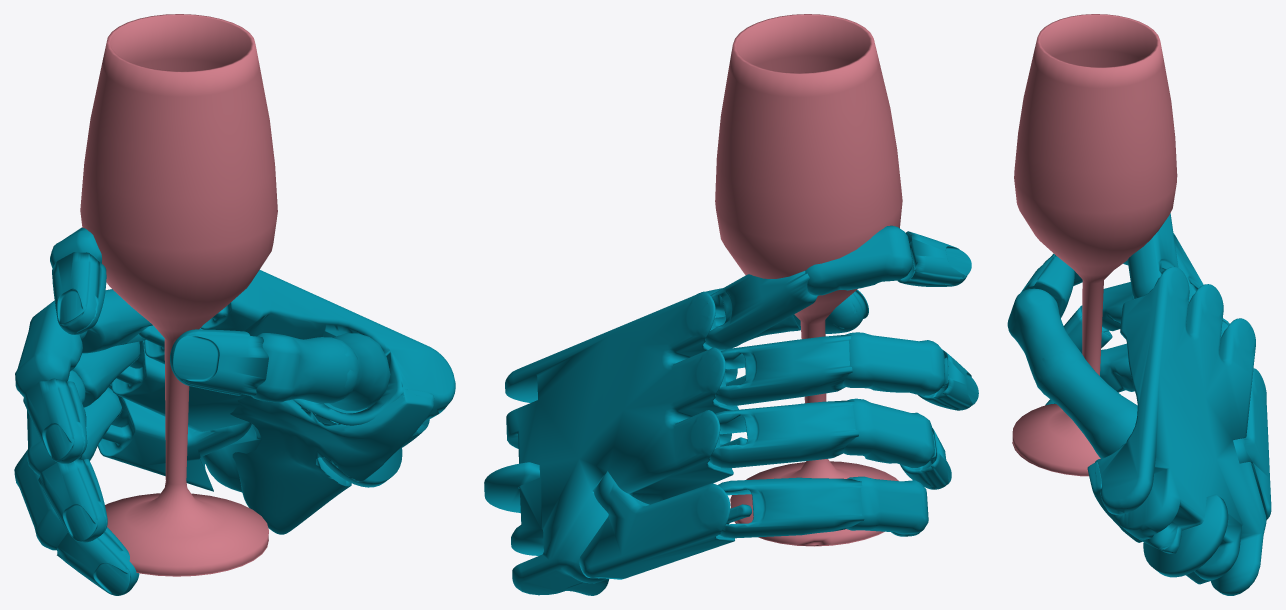
3 renders of one model, left to right at view 1: azimuth 30°, elevation 25°; view 2: azimuth 150°, elevation 25°; view 3: azimuth 270°, elevation 25°, orthographic. The views are drawn at different scales.
Parts seen in each view (by area): view 1: world; view 2: world; view 3: world.
Boxes of the visible parts, left/top/right/bottom form: world: left=14, top=14, right=455, bottom=595; world: left=484, top=14, right=978, bottom=595; world: left=1007, top=14, right=1271, bottom=595.
Size of the model in its own units: 0.1702 by 0.2103 by 0.1052.
